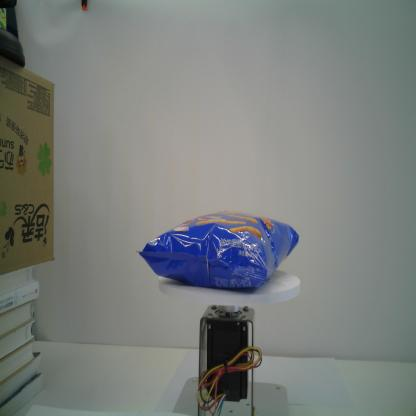Puffed Food: (134, 209, 300, 294)
